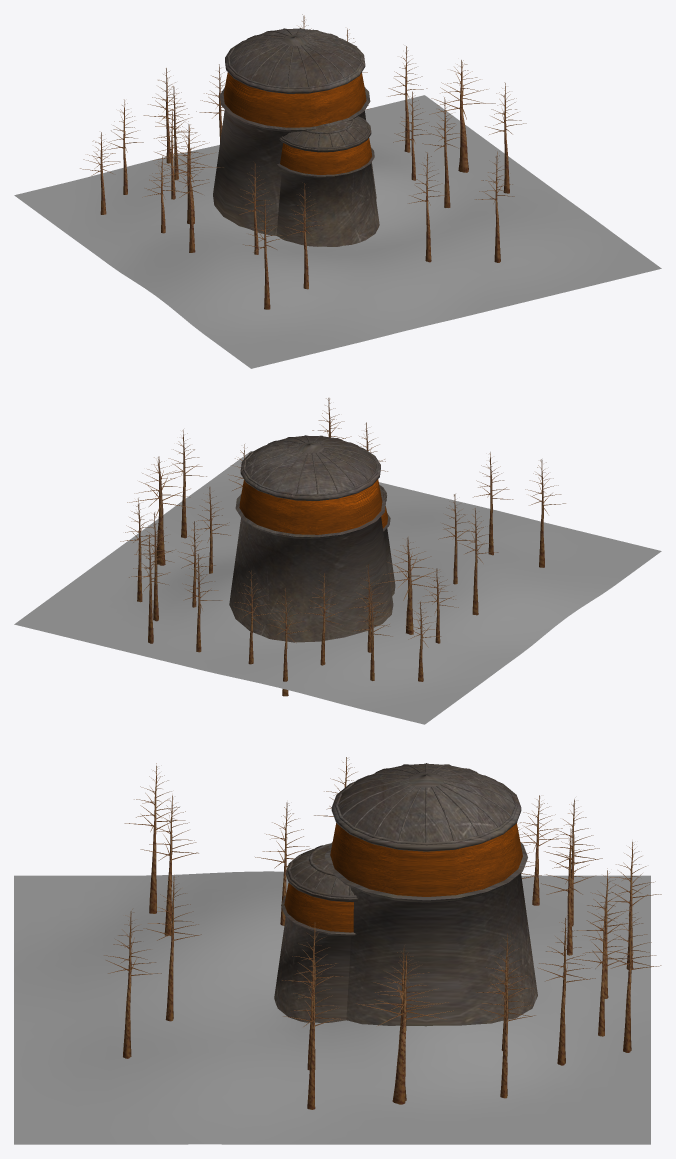
Rendered from pałac_rady_p2.FBX.
The picture shows the model from 3 angles, top to bottom: view 1: azimuth 30°, elevation 25°; view 2: azimuth 150°, elevation 25°; view 3: azimuth 270°, elevation 25°; orthographic projection. The views are drawn at different scales.
Visible parts, largest first — view 1: Plane001, complex_simple_loaded, Object001, Object002, Foliage002, Foliage007, Foliage004, Foliage006, Foliage023, Foliage009, Foliage020, Foliage021 (+2 smaller); view 2: Plane001, complex_simple_loaded, Object001, Foliage002, Foliage007, Foliage019, Foliage017, Foliage009, Foliage023, Foliage006, Foliage014, Foliage001 (+2 smaller); view 3: Plane001, complex_simple_loaded, Object001, Object002, Foliage002, Foliage020, Foliage023, Foliage017, Foliage006, Foliage019, Foliage021, Foliage001 (+10 smaller).
Part boxes in pixels (box(x1,y1,x2,y2)): Plane001: box(14, 95, 661, 368); complex_simple_loaded: box(213, 28, 379, 246); Object001: box(223, 72, 366, 127); Object002: box(280, 138, 372, 174); Foliage002: box(429, 60, 495, 172); Foliage007: box(156, 121, 223, 224); Foliage004: box(422, 97, 463, 207); Foliage006: box(485, 82, 526, 193); Foliage023: box(243, 199, 284, 309); Foliage009: box(168, 143, 209, 252); Foliage020: box(475, 151, 514, 262); Foliage021: box(408, 152, 446, 262); Plane001: box(14, 451, 661, 724); complex_simple_loaded: box(229, 435, 395, 642); Object001: box(239, 479, 382, 534); Foliage002: box(127, 456, 194, 565); Foliage007: box(376, 536, 444, 634); Foliage019: box(134, 512, 175, 621); Foliage017: box(129, 534, 170, 643); Foliage009: box(459, 508, 498, 615); Foliage023: box(525, 459, 565, 567); Foliage006: box(167, 429, 206, 538); Foliage014: box(268, 588, 309, 696); Foliage001: box(120, 498, 159, 602); Plane001: box(14, 871, 650, 1144); complex_simple_loaded: box(274, 763, 537, 1026); Object001: box(330, 823, 522, 896); Object002: box(284, 883, 397, 932); Foliage002: box(356, 952, 453, 1104); Foliage020: box(104, 909, 161, 1058); Foliage023: box(124, 763, 185, 913); Foliage017: box(603, 905, 661, 1052); Foliage006: box(283, 961, 342, 1109); Foliage019: box(537, 915, 595, 1065); Foliage021: box(143, 874, 201, 1021); Foliage001: box(478, 956, 535, 1098).
Bounding box in the file's own units: 39.37 × 17 × 40.06.
5 materials, 4 textured.
